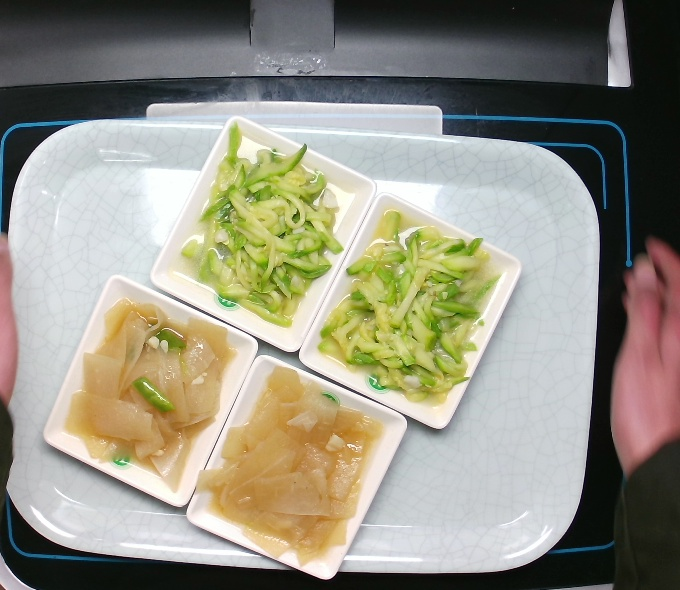wcq-LuoBo: (60, 291, 235, 494), (197, 366, 377, 563)
wcq-NenNanGua: (324, 212, 503, 408), (179, 119, 347, 324)
